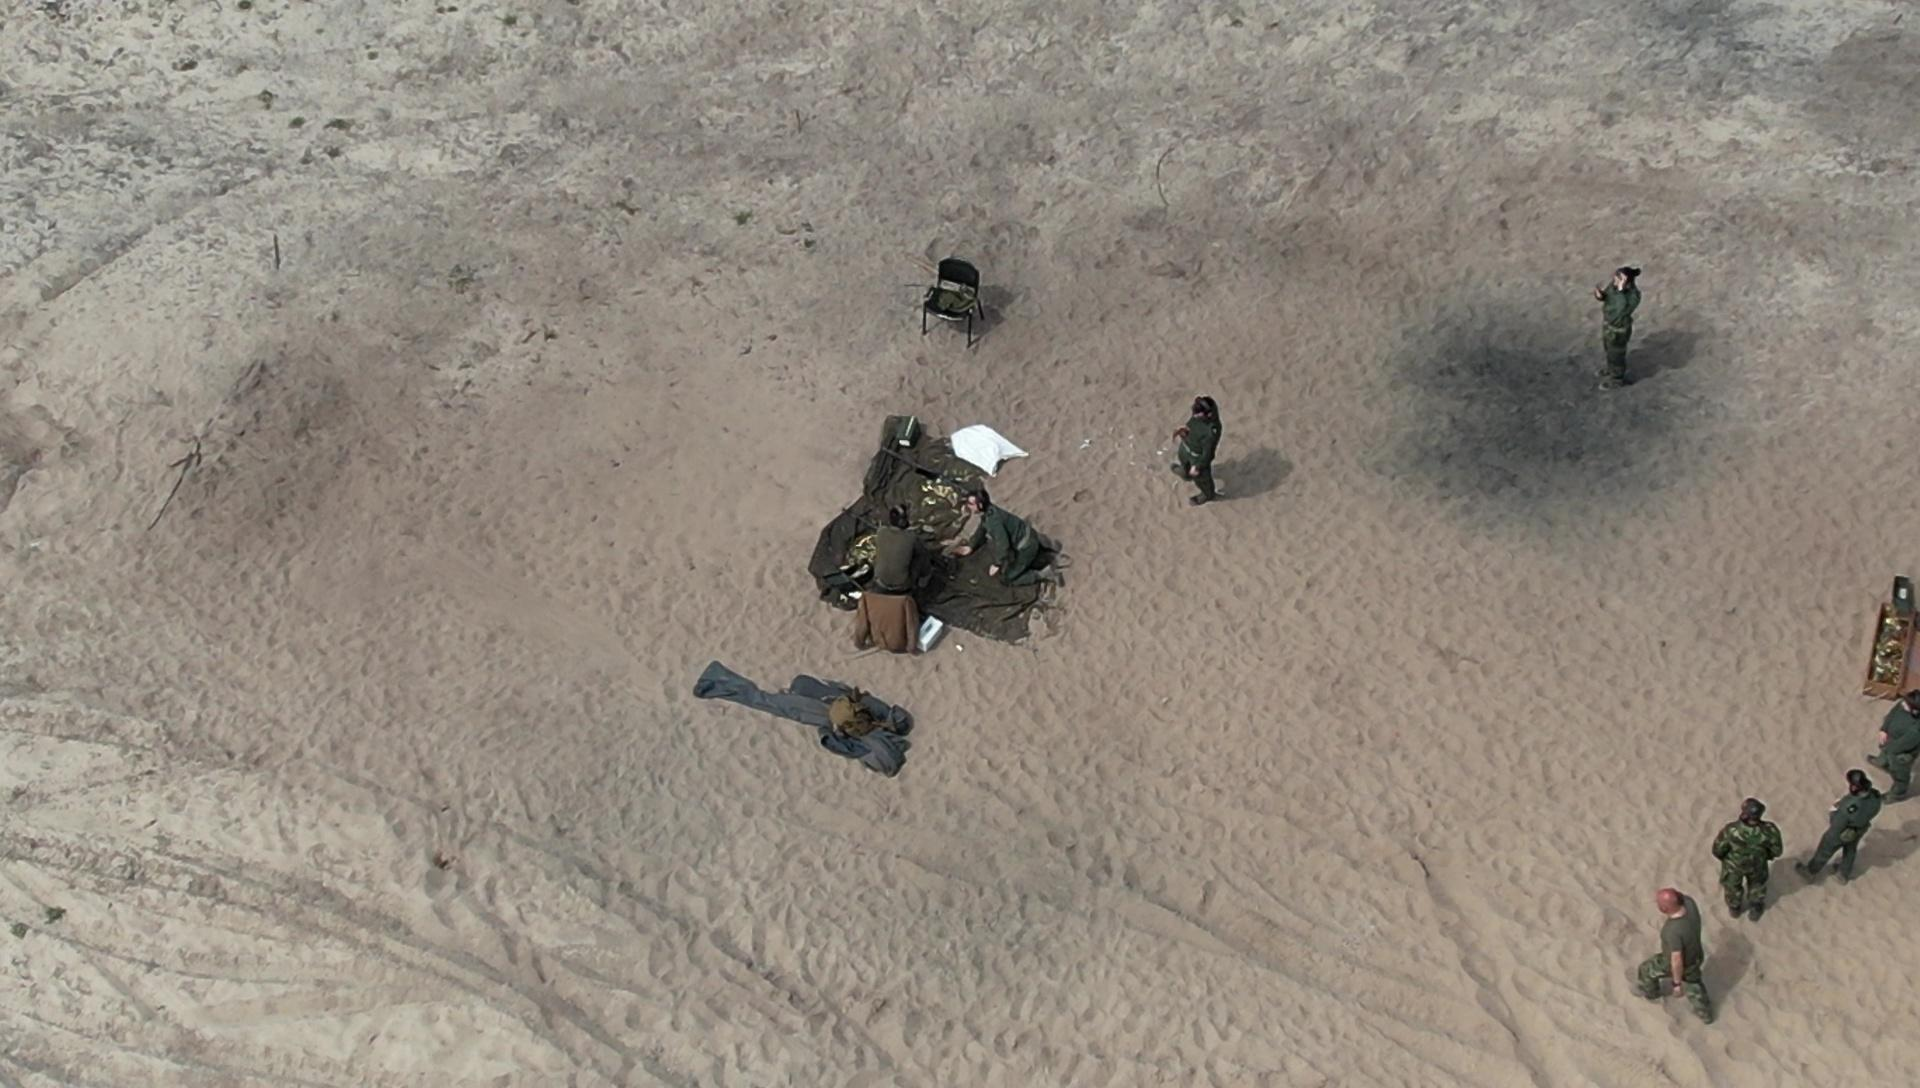Soldier: (943, 483, 1092, 600), (1644, 888, 1743, 1029), (1714, 785, 1793, 939), (1592, 261, 1658, 415), (1171, 381, 1240, 529), (862, 501, 940, 613), (1820, 753, 1880, 895), (1874, 675, 1920, 822)
